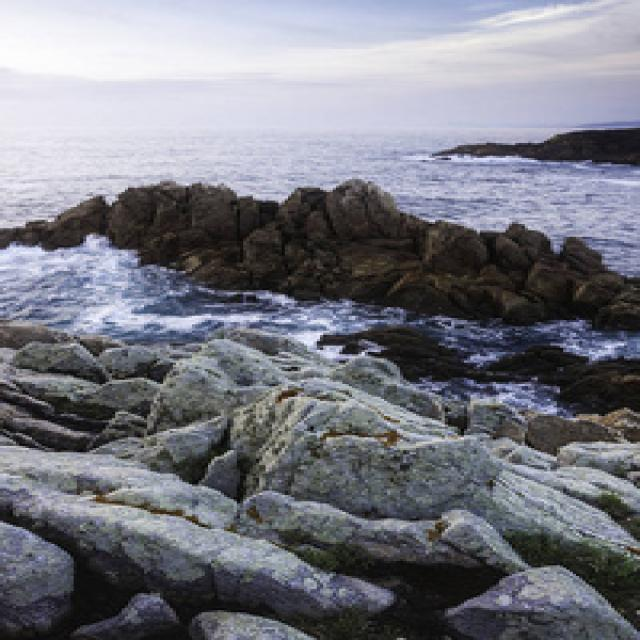reef: (76, 152, 537, 412)
